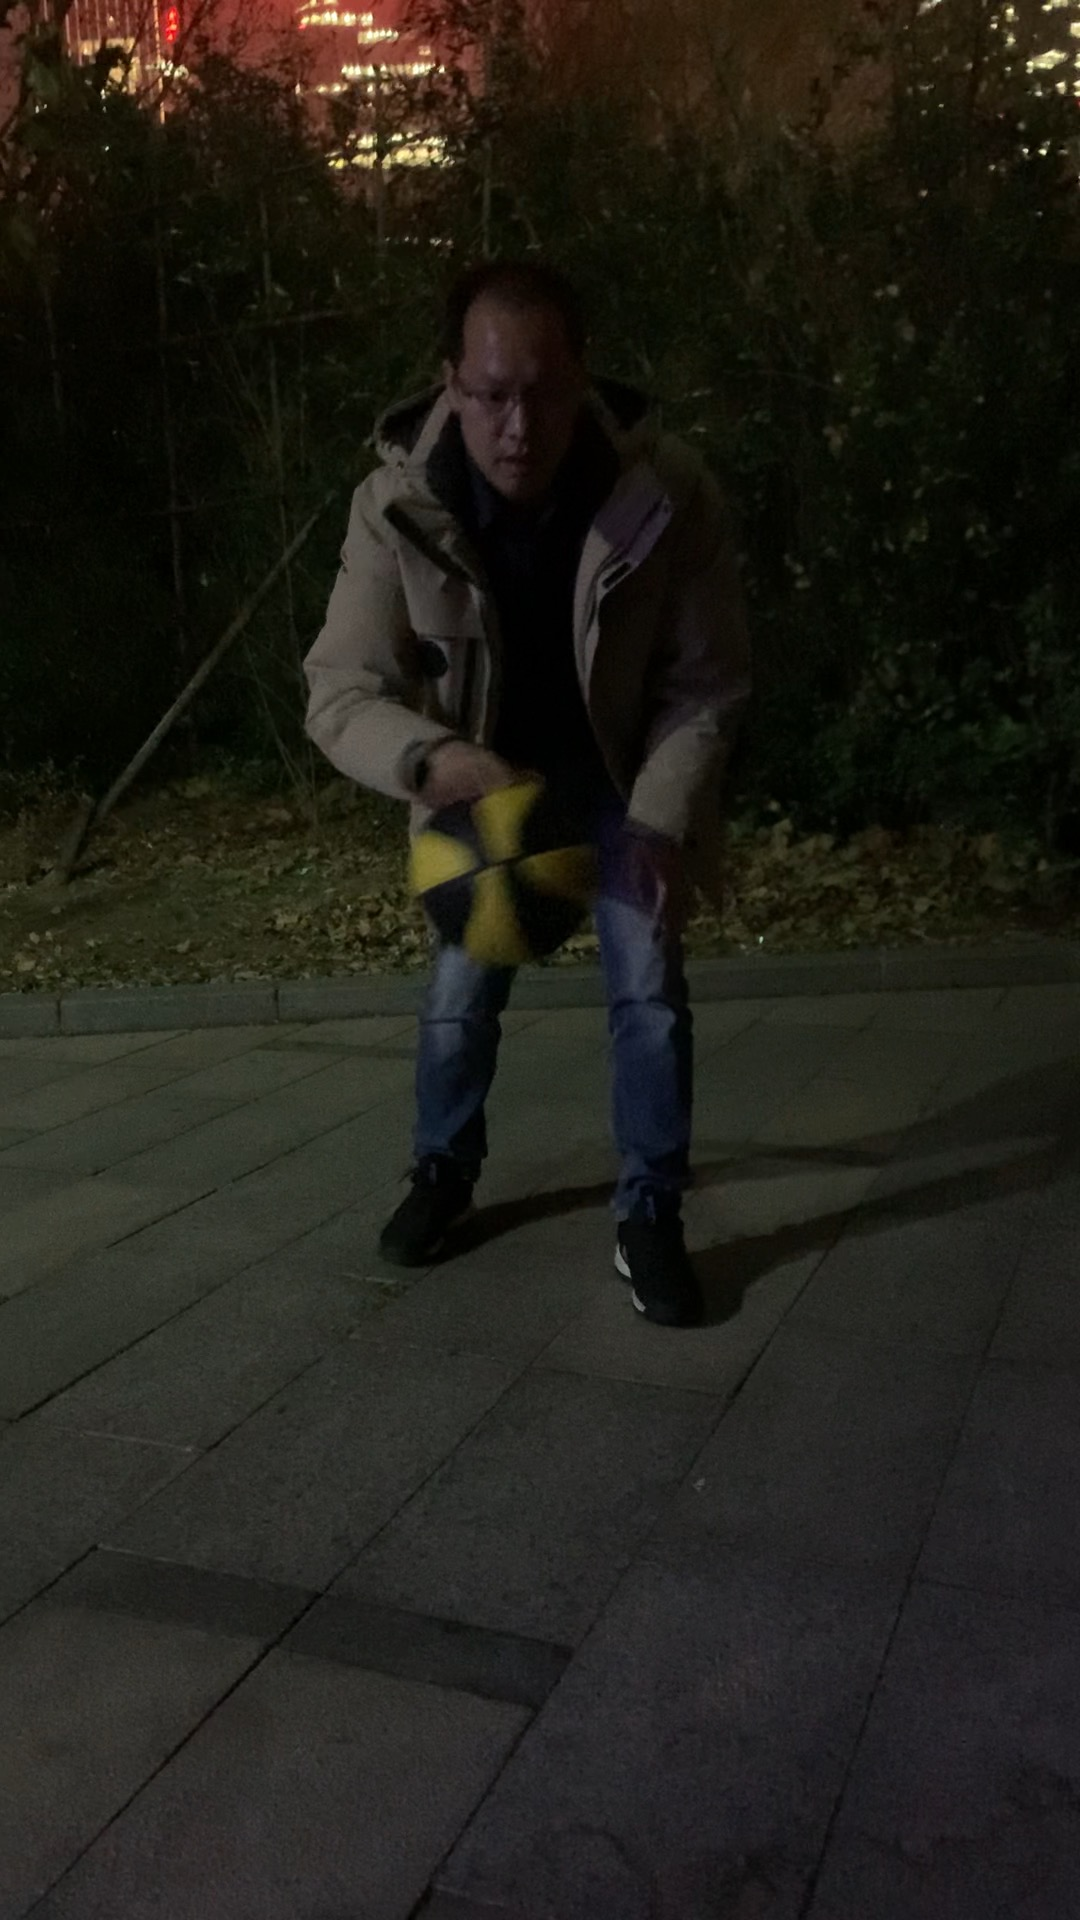ball: (407, 775, 603, 971)
